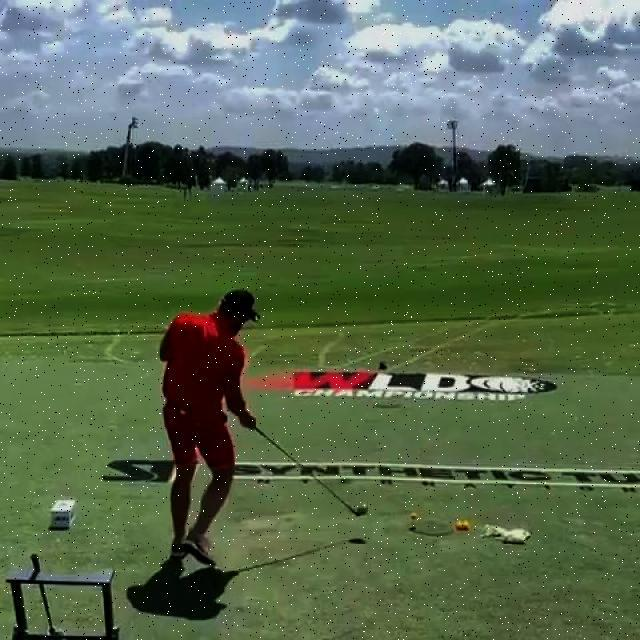golf ball: (411, 512, 417, 518)
golf club-handle: (253, 427, 368, 516)
golf club-head: (356, 503, 369, 517)
